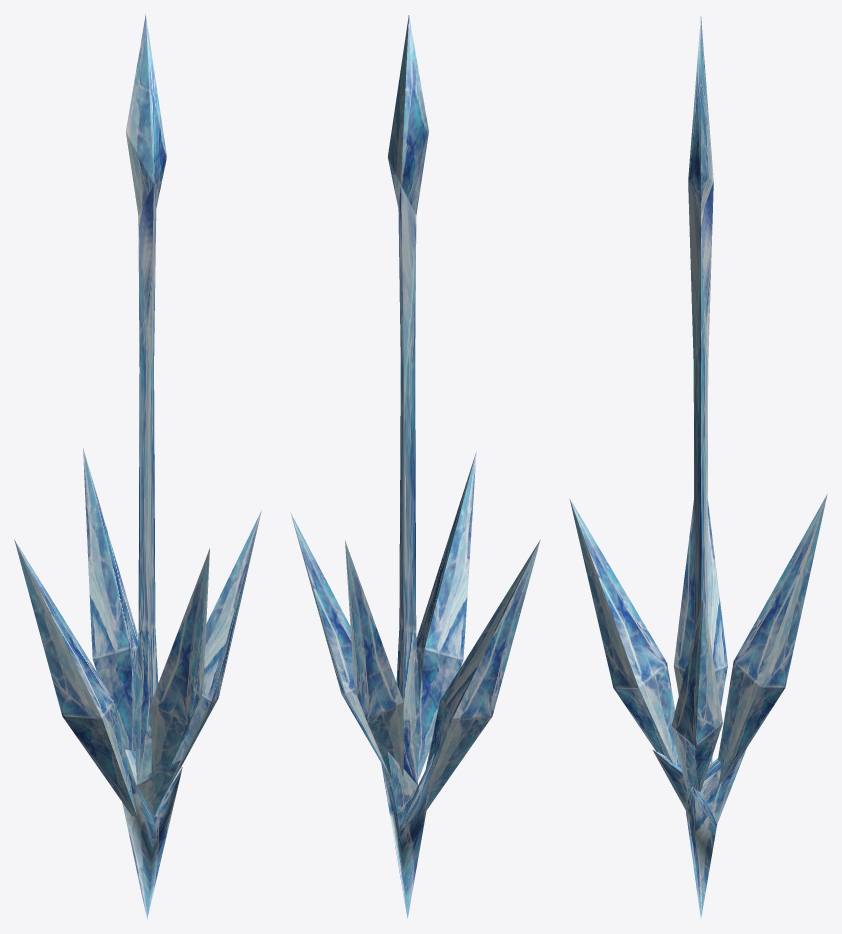
Rendered from cjz_bingjianshi.FBX.
3 renders of one model, left to right at view 1: azimuth 30°, elevation 25°; view 2: azimuth 150°, elevation 25°; view 3: azimuth 270°, elevation 25°, orthographic.
Parts seen in each view (by area): view 1: cjz_bingjianshi; view 2: cjz_bingjianshi; view 3: cjz_bingjianshi.
Part boxes in pixels (box(x1,y1,x2,y2)): cjz_bingjianshi: box(14, 14, 261, 919); cjz_bingjianshi: box(290, 15, 540, 918); cjz_bingjianshi: box(569, 16, 827, 918).
Size of the model in its own units: 44.06 by 153 by 39.61.
2 materials, 2 textured.
